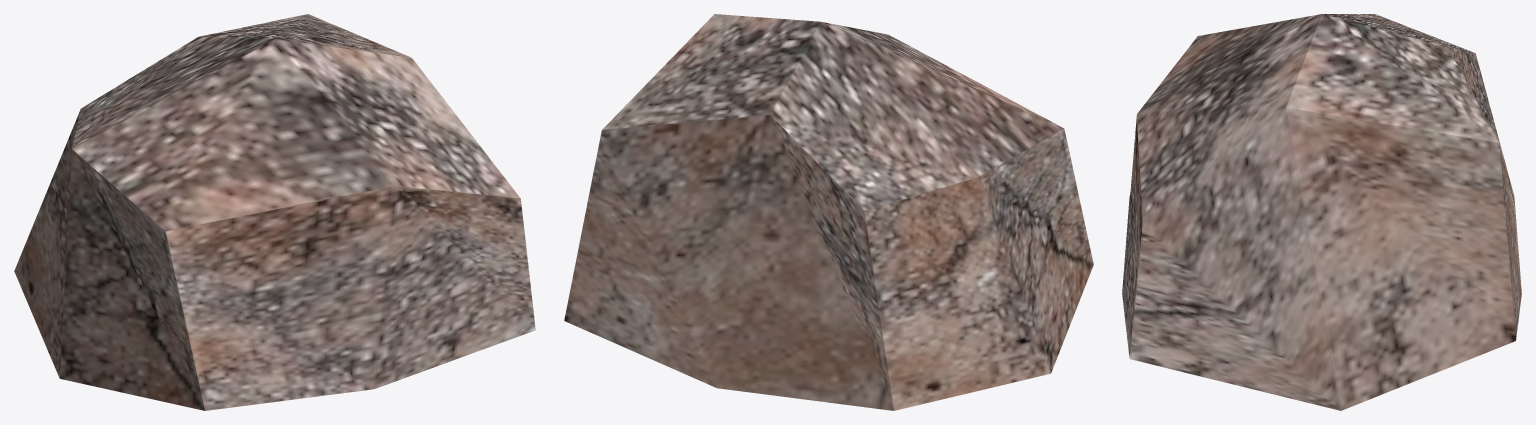
File: littleRock.gltf
The picture shows the model from 3 angles, left to right: view 1: azimuth 30°, elevation 25°; view 2: azimuth 150°, elevation 25°; view 3: azimuth 270°, elevation 25°; orthographic projection. The views are drawn at different scales.
Visible parts, largest first — view 1: Stone; view 2: Stone; view 3: Stone.
Boxes of the visible parts, bbox=[...] form: Stone: bbox=[14, 14, 535, 410]; Stone: bbox=[564, 14, 1093, 410]; Stone: bbox=[1122, 14, 1521, 410].
Bounding box in the file's own units: 1.22 × 0.8625 × 0.9926.
1 material, 1 textured.
